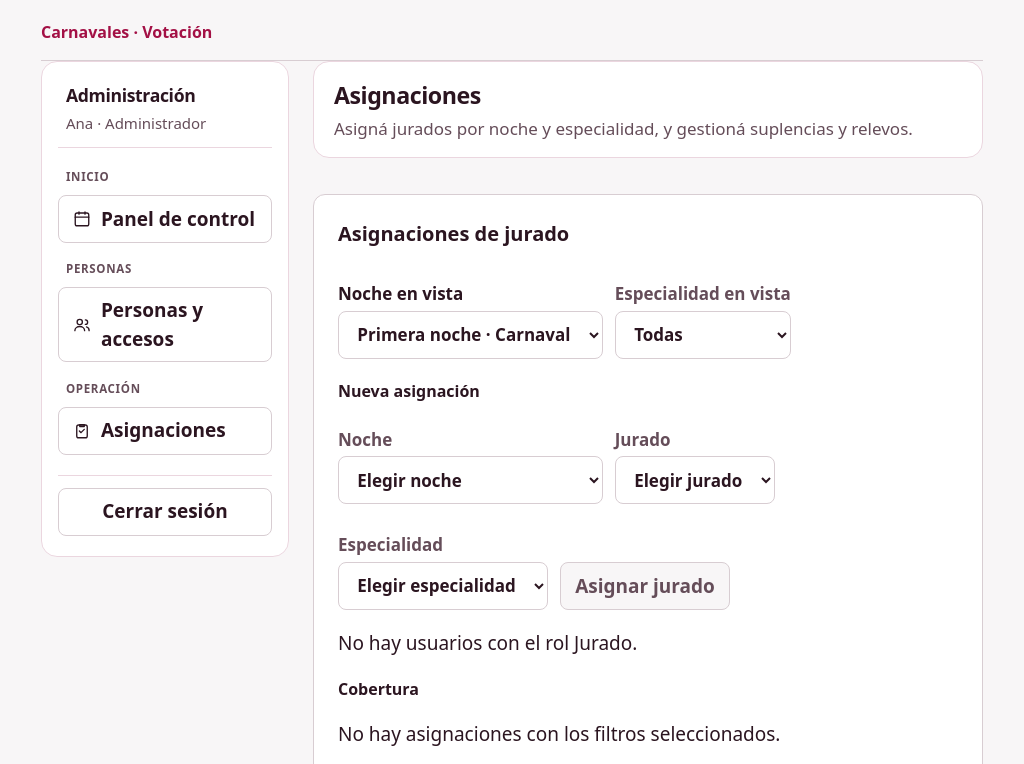
Scenario: the assignment selector follows changes to the Jurado role without reloading the page
The width and height of the screenshot is (1024, 764).
Earlier steps of the test are not shown.
Check: the option "Lucía" is not shown
Click the button "Personas y accesos" at point(165, 325), box [58,287,272,362]
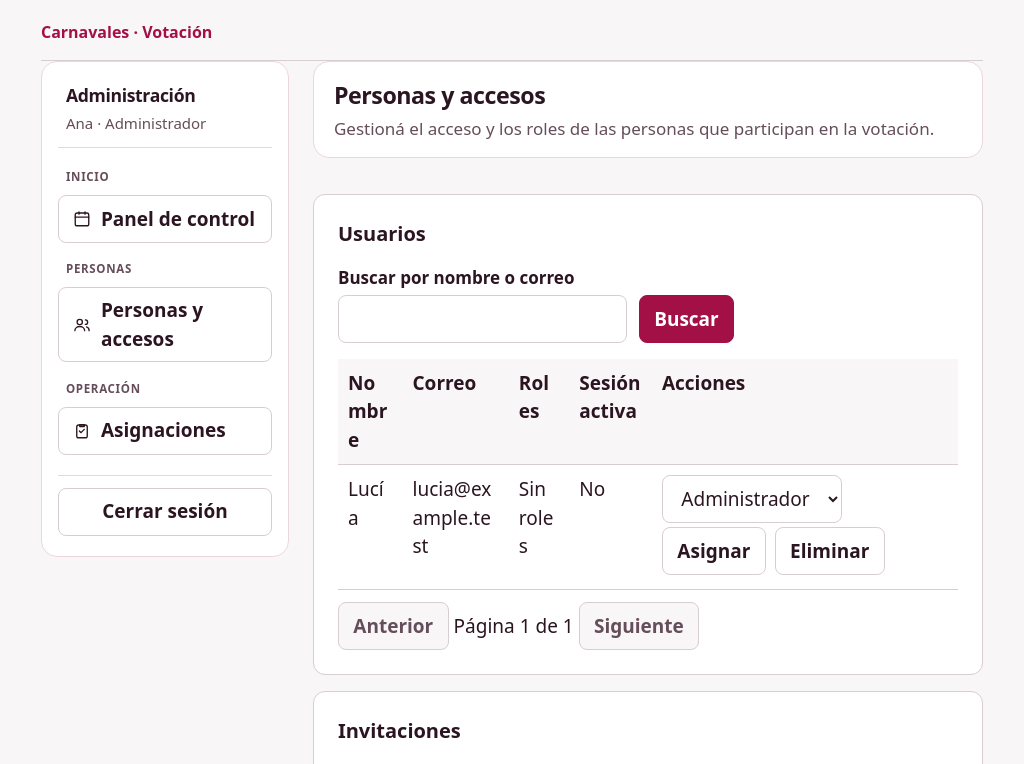
Select "Jurado" in the dropdown named "Rol para Lucía" at point(752, 500), box [662,476,842,524]
Click the button "Asignar" at point(714, 552), box [662,528,766,576]
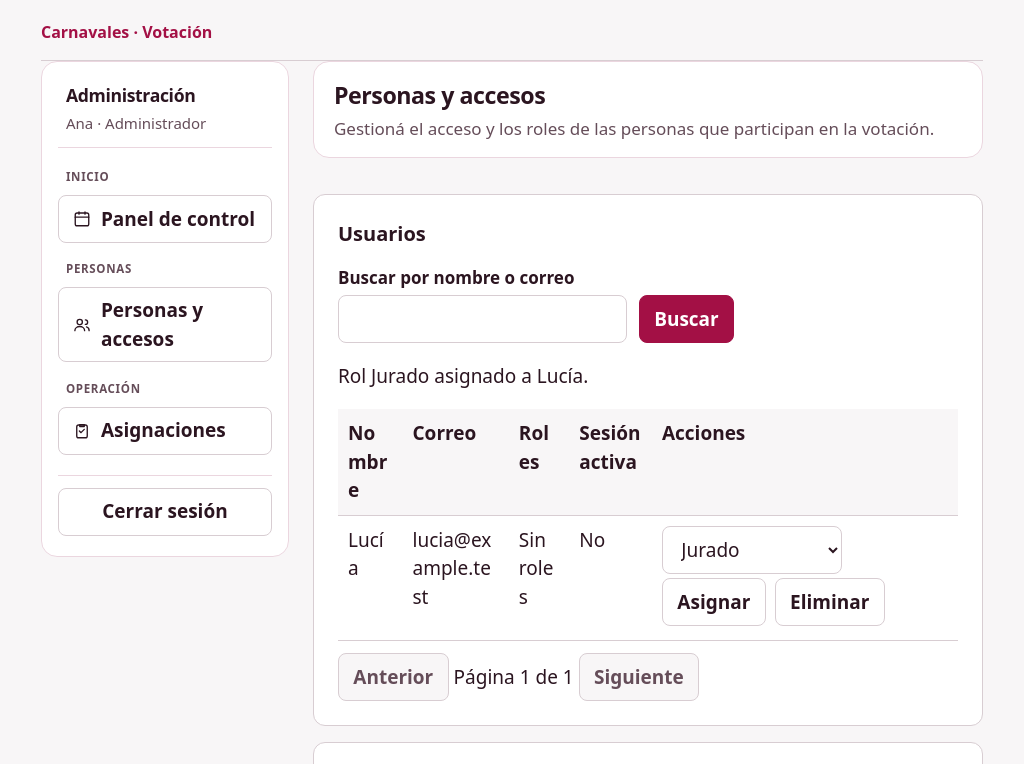
Check: the text "Rol Jurado asignado a Lucía." is shown, box [338,363,588,389]
Click the button "Asignaciones" at point(165, 431), box [58,407,272,455]
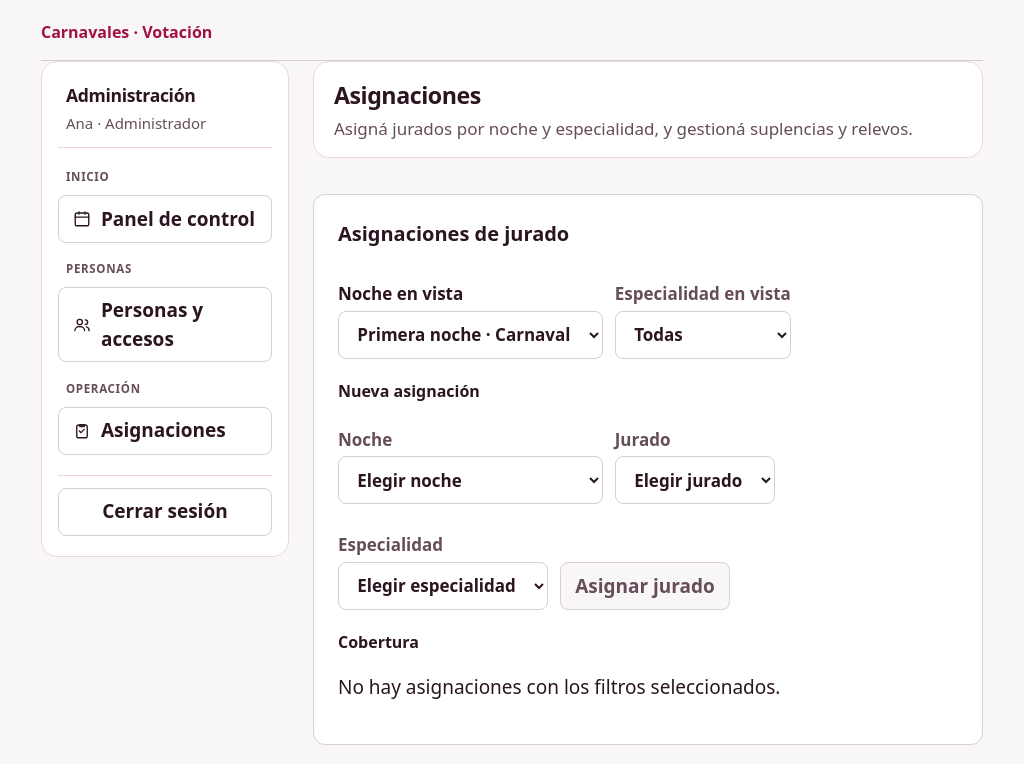
Click the button "Personas y accesos" at point(165, 325), box [58,287,272,362]
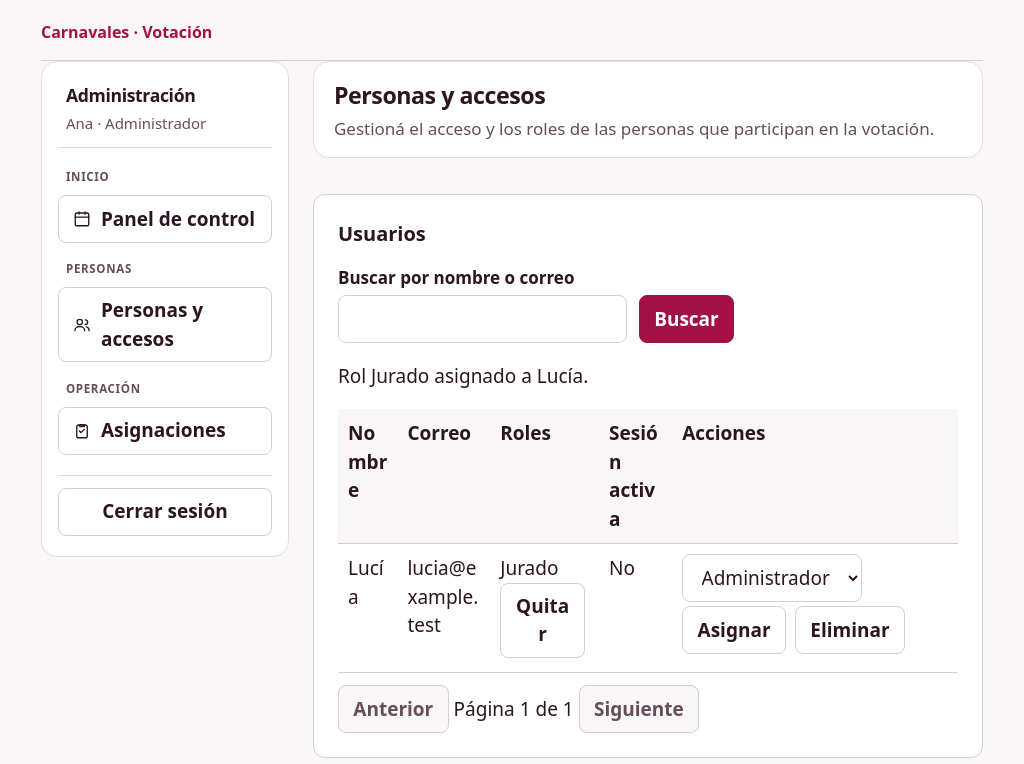
Click the button "Quitar" at point(543, 620), box [500,583,585,658]
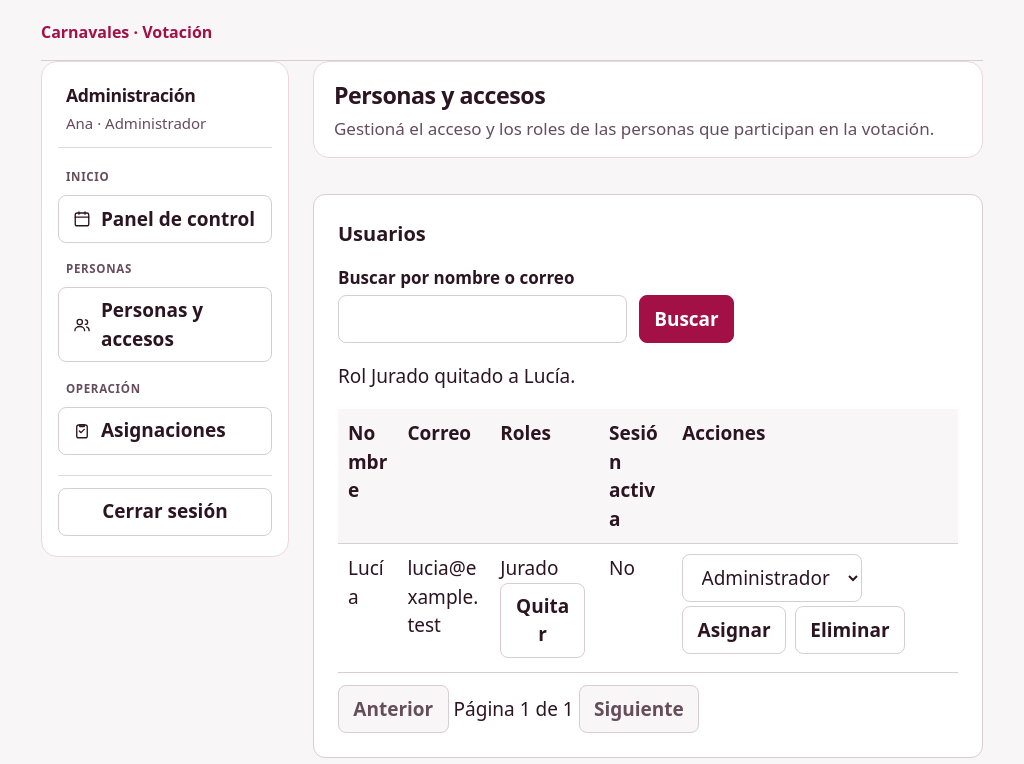
Check: the text "Rol Jurado quitado a Lucía." is shown, box [338,363,575,389]
Click the button "Asignaciones" at point(165, 431), box [58,407,272,455]
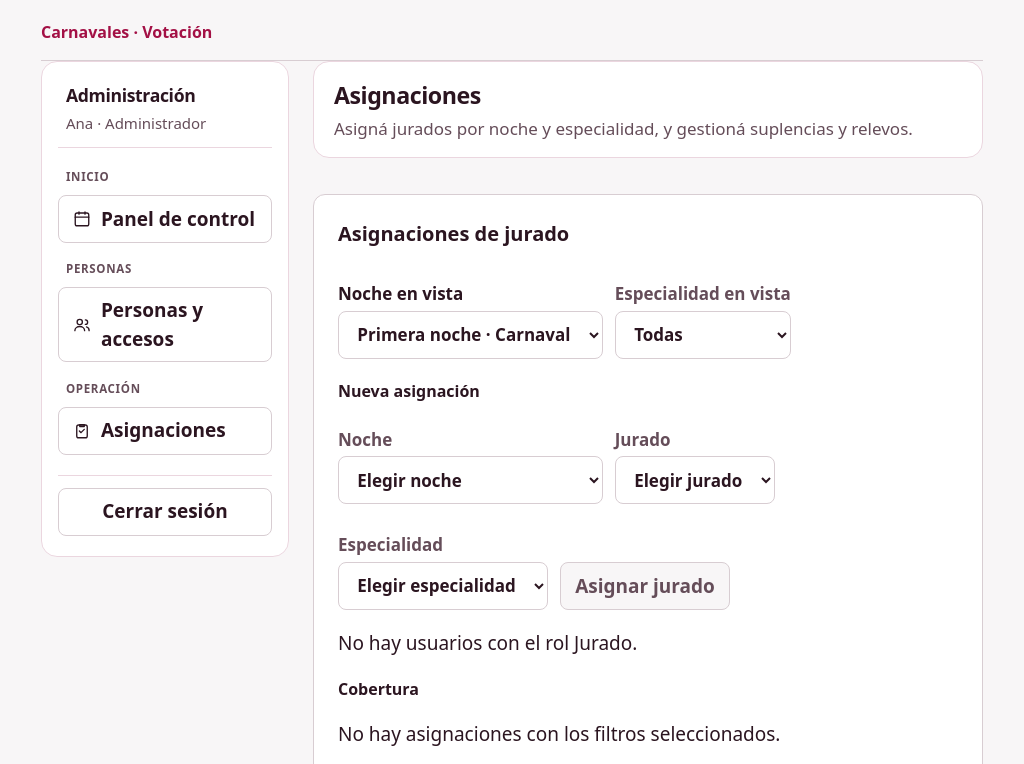
Check: the message "Lucía" is gone
